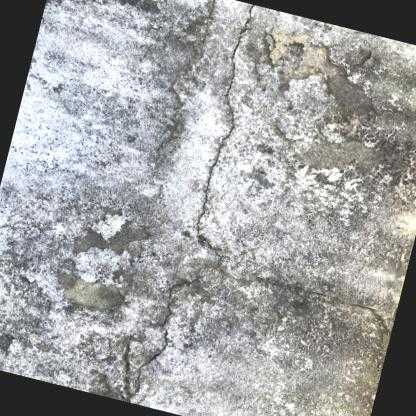crack: (194, 4, 391, 335), (131, 273, 197, 398)
